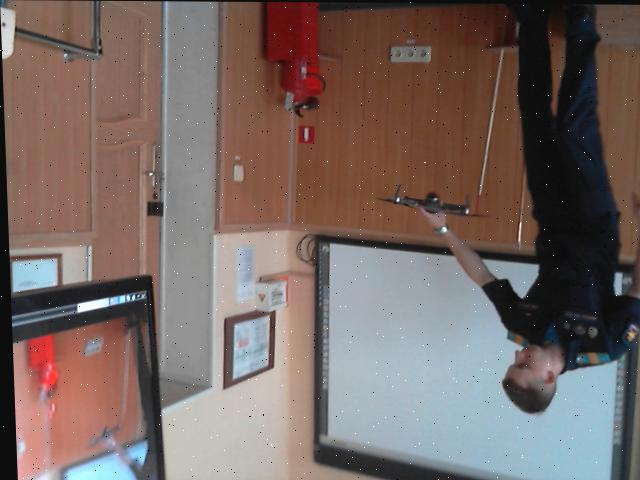drone: (376, 182, 486, 233)
